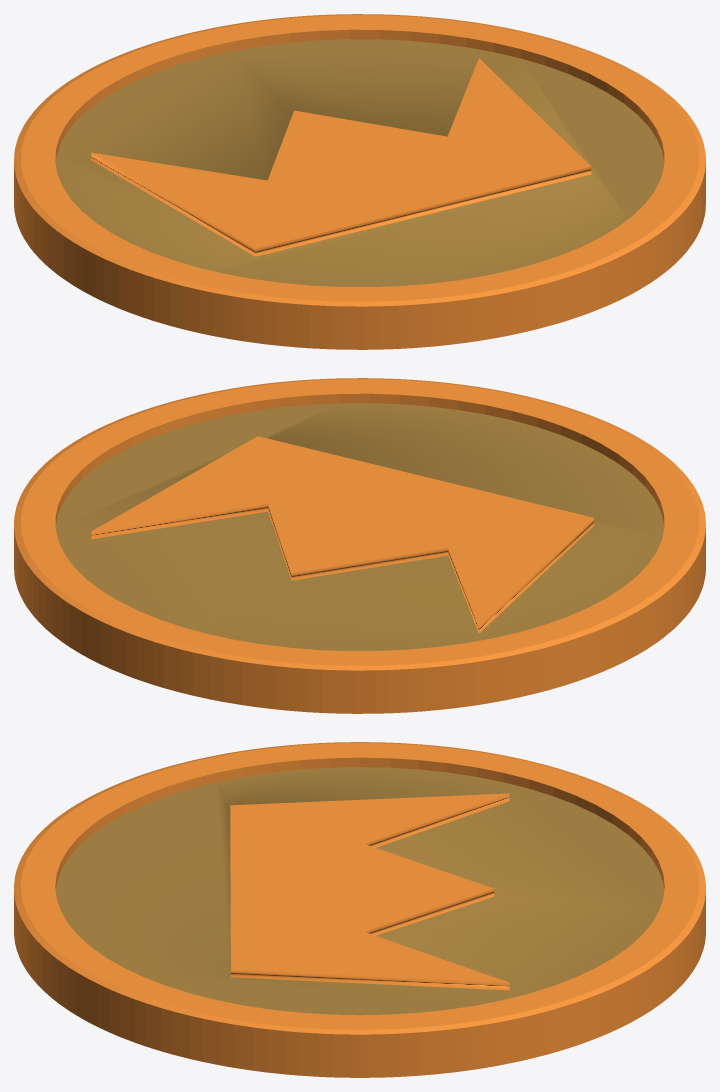
The model's file is CustomCoin.fbx.
The picture shows the model from 3 angles, top to bottom: view 1: azimuth 30°, elevation 25°; view 2: azimuth 150°, elevation 25°; view 3: azimuth 270°, elevation 25°; orthographic projection.
Visible parts, largest first — view 1: Circle; view 2: Circle; view 3: Circle.
Part boxes in pixels (x1,y1,x2,y2): Circle: (14,14,705,349); Circle: (14,378,705,713); Circle: (14,742,705,1077).
Bounding box in the file's own units: 200 × 15 × 200.
